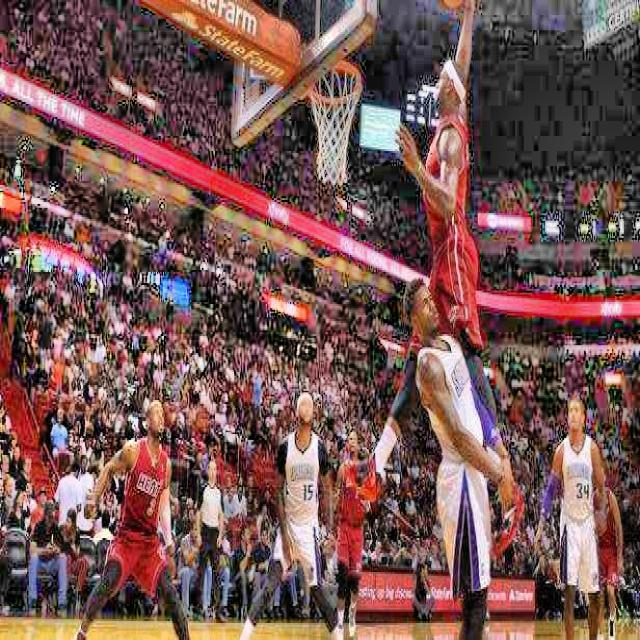rim: (307, 58, 362, 187)
